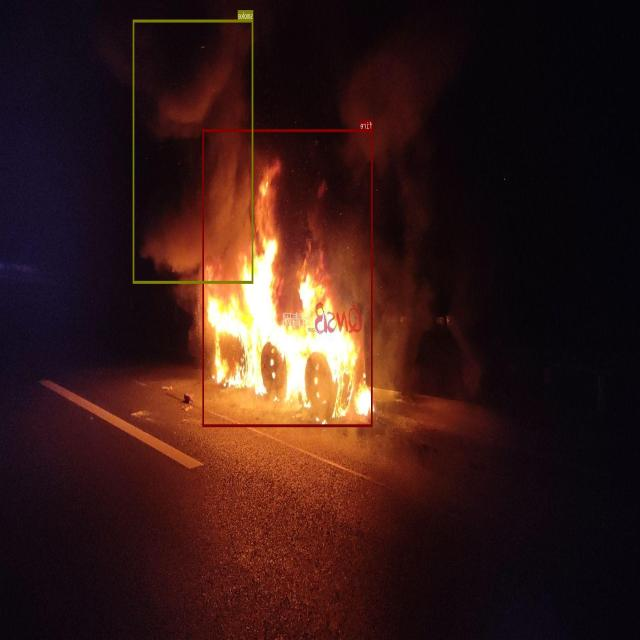fire: (202, 129, 372, 427)
smoke: (133, 19, 254, 283)
